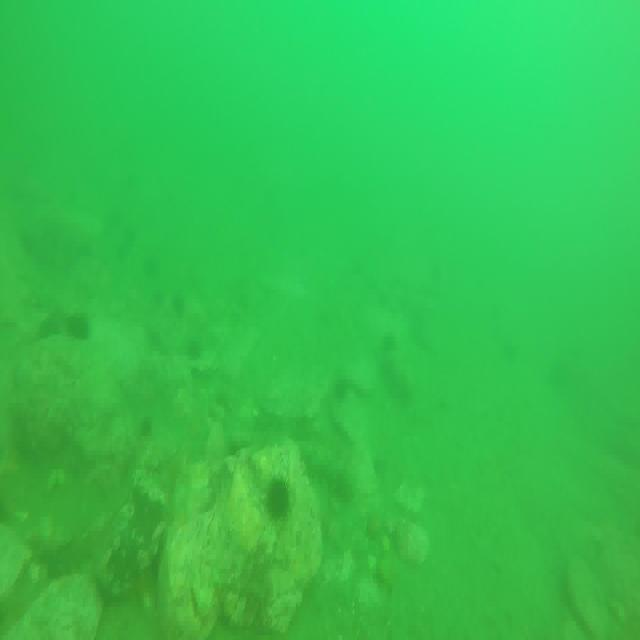echinus: (265, 478, 291, 519), (69, 315, 86, 341), (184, 337, 201, 360), (382, 329, 397, 355), (333, 378, 347, 399), (138, 415, 148, 434)
holothurian: (302, 443, 352, 499)
